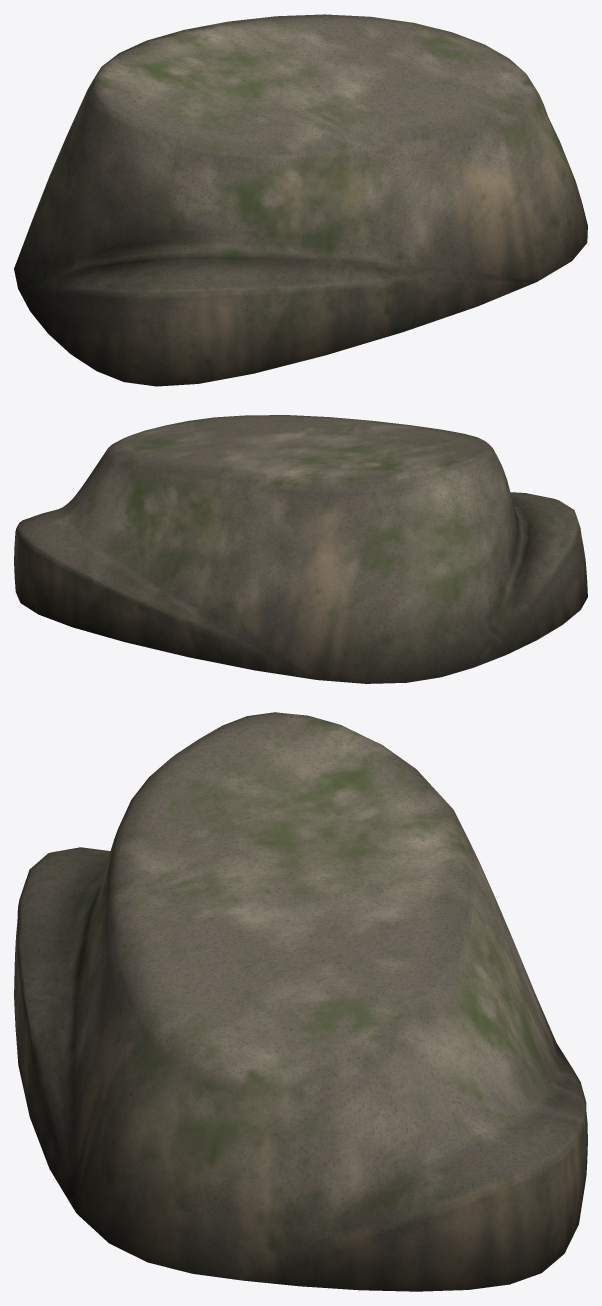
File: ROCK_01.obj
3 views of the same model, one above another, from view 1: azimuth 30°, elevation 25°; view 2: azimuth 150°, elevation 25°; view 3: azimuth 270°, elevation 25° (orthographic). The views are drawn at different scales.
Parts seen in each view (by area): view 1: ROCK_01_geo; view 2: ROCK_01_geo; view 3: ROCK_01_geo.
Boxes of the visible parts, left/top/right/bottom form: ROCK_01_geo: left=14, top=14, right=587, bottom=386; ROCK_01_geo: left=14, top=415, right=587, bottom=683; ROCK_01_geo: left=14, top=712, right=587, bottom=1291.
Bounding box in the file's own units: 1.96 × 0.7255 × 1.37.
Materials: 1 (1 with a texture image).
